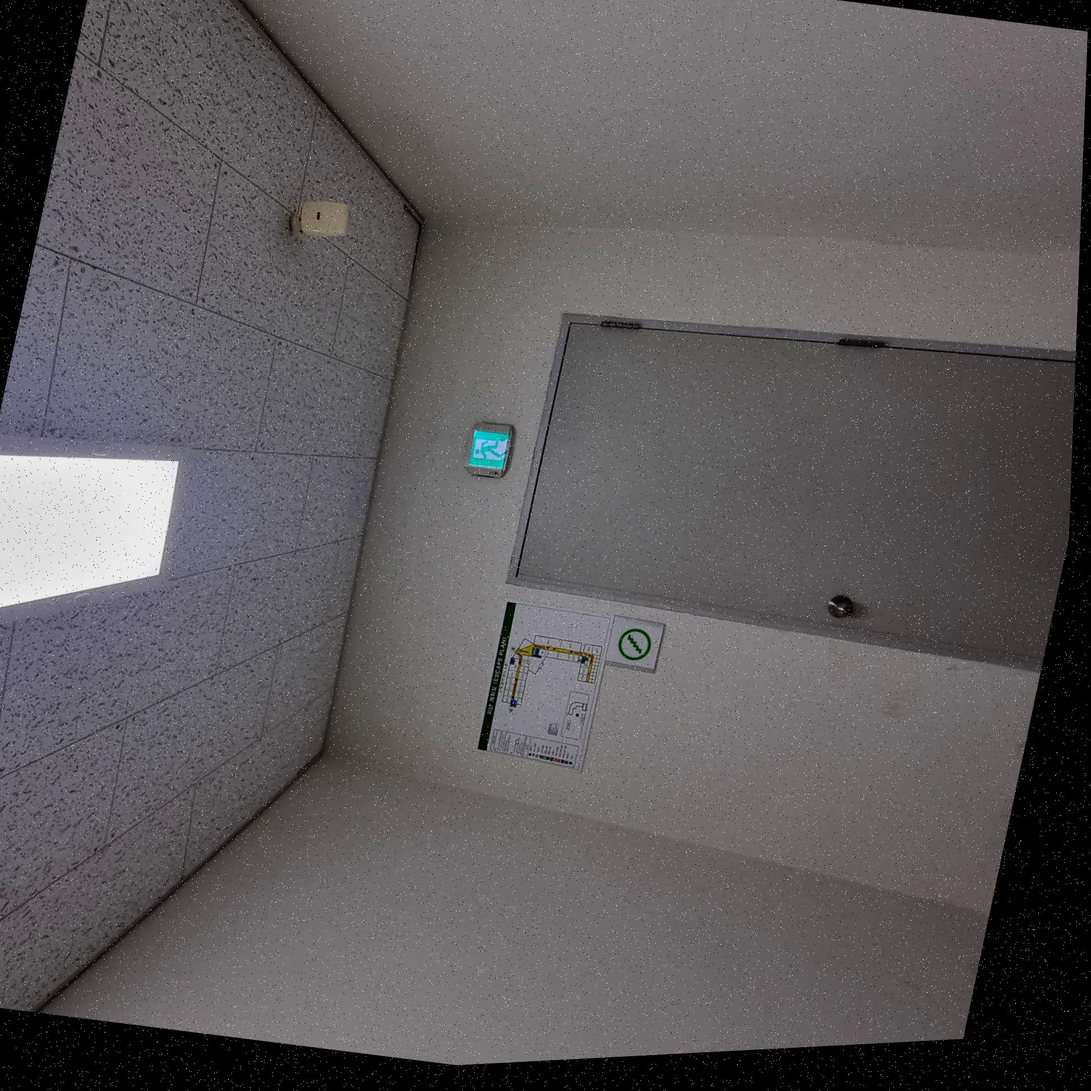emergency_exit: (605, 614, 666, 673), (465, 421, 515, 478)
